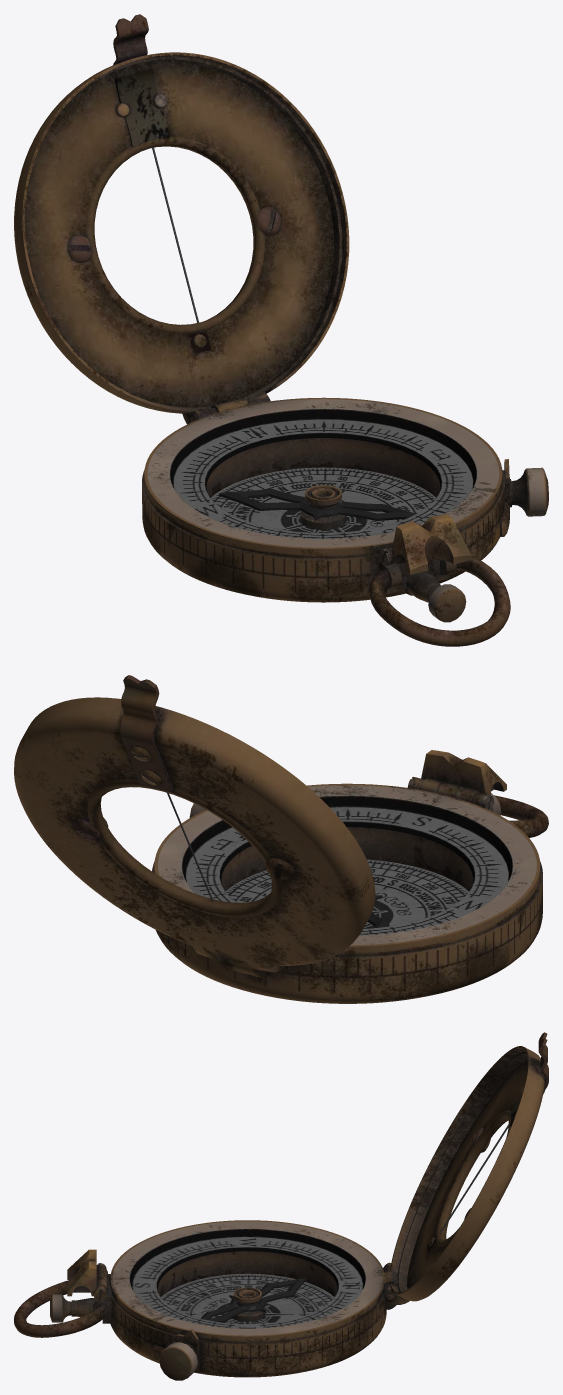
Rendered from seadogs_compass.glb.
The picture shows the model from 3 angles, top to bottom: view 1: azimuth 30°, elevation 25°; view 2: azimuth 150°, elevation 25°; view 3: azimuth 270°, elevation 25°; orthographic projection. The views are drawn at different scales.
Parts seen in each view (by area): view 1: seadogs_compass; view 2: seadogs_compass; view 3: seadogs_compass.
Boxes of the visible parts, x1,y1,x2,y2 form: seadogs_compass: (14, 14, 548, 646); seadogs_compass: (14, 675, 548, 1003); seadogs_compass: (14, 1032, 548, 1380).
Size of the model in its own units: 0.0813 by 0.0866 by 0.1441.
Materials: 1 (1 with a texture image).
